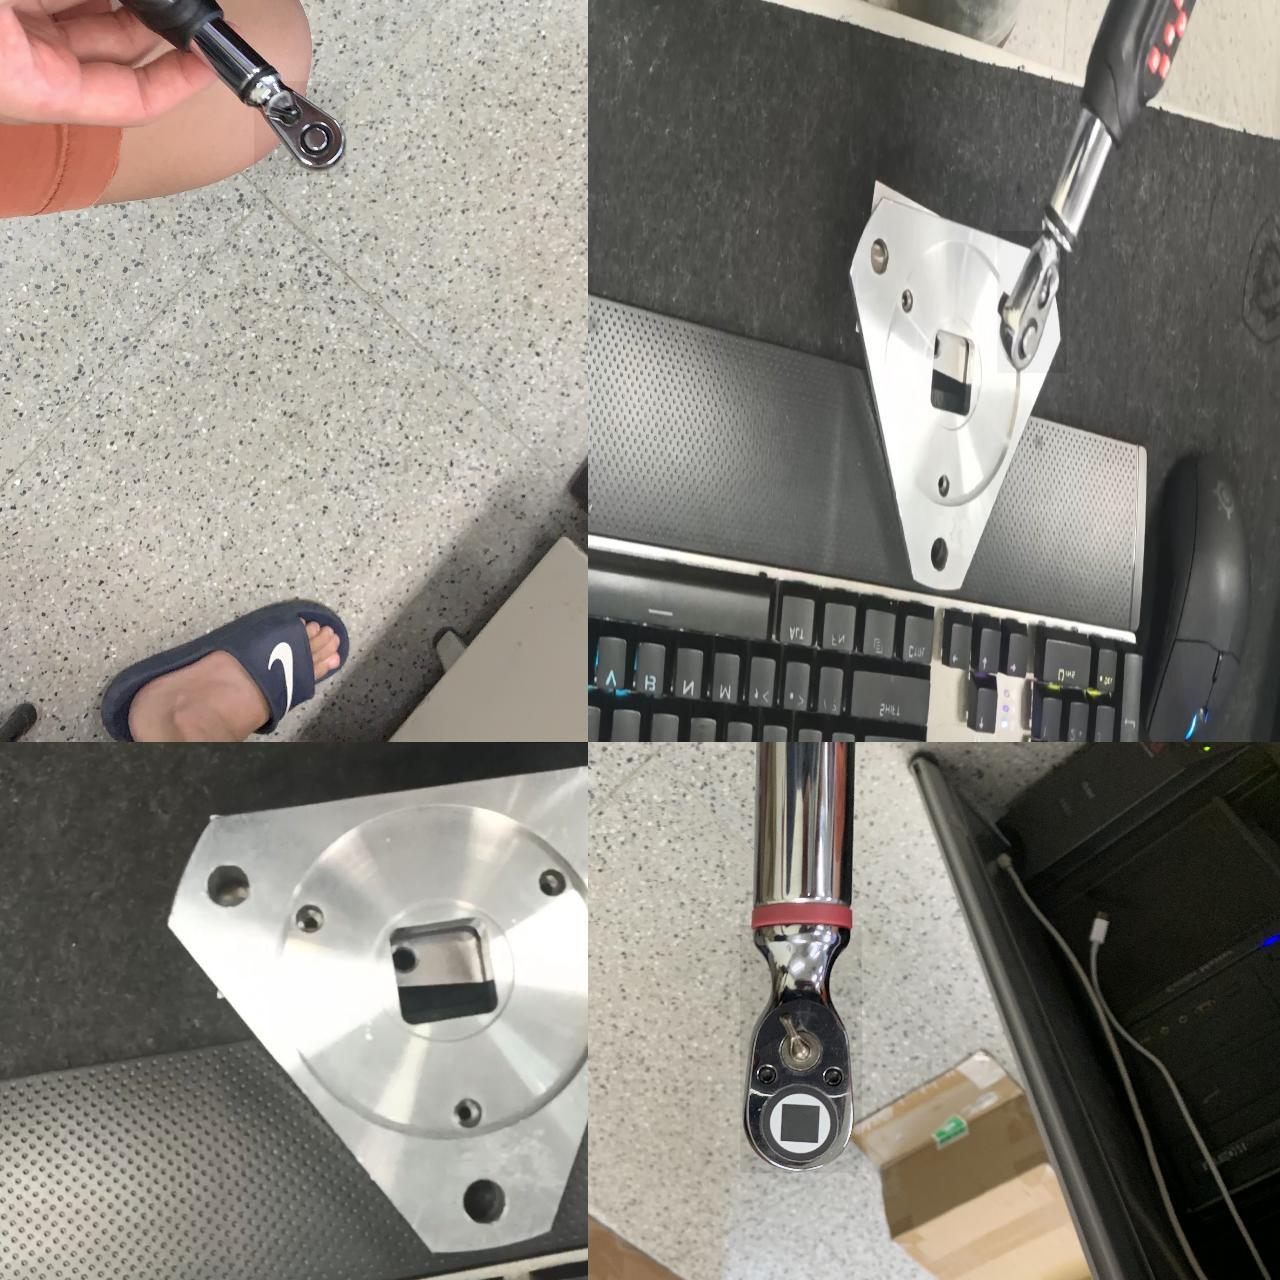Tool: (740, 925, 862, 1173), (998, 231, 1067, 373), (254, 81, 346, 175)
hole: (200, 853, 261, 920), (455, 1167, 512, 1237), (450, 1082, 488, 1136), (527, 862, 574, 903), (924, 527, 953, 576), (292, 899, 326, 940), (865, 234, 893, 281), (898, 284, 918, 326), (933, 470, 954, 497)
